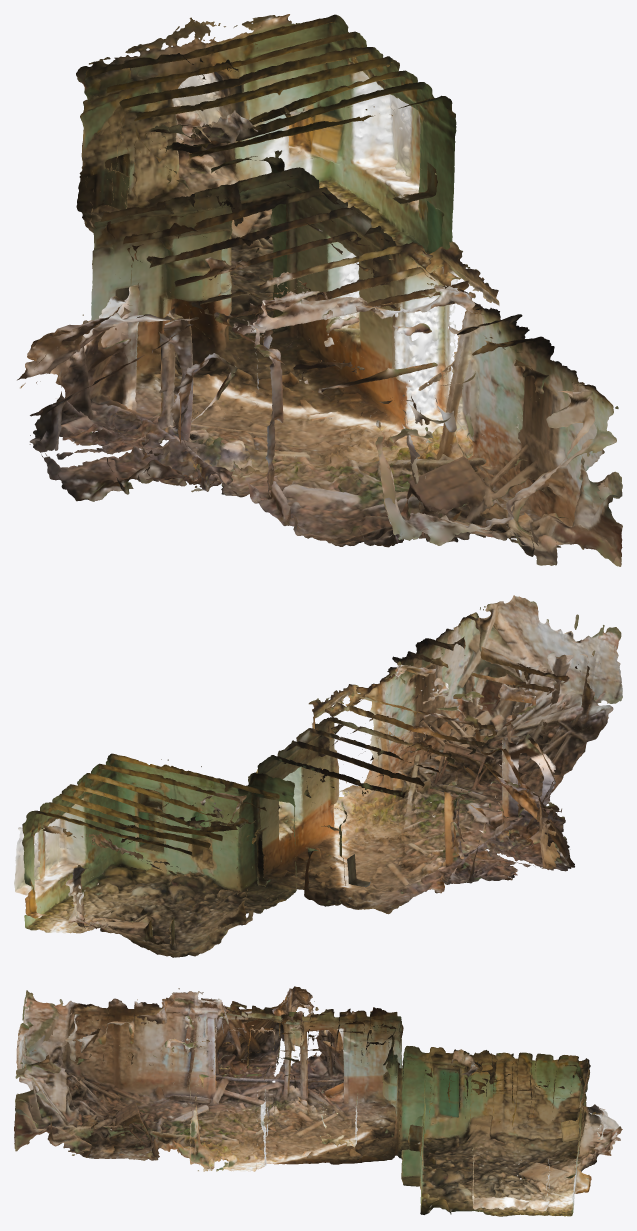
File: abandoned_house_interior-v1.glb
3 views of the same model, one above another, from view 1: azimuth 30°, elevation 25°; view 2: azimuth 150°, elevation 25°; view 3: azimuth 270°, elevation 25° (orthographic). The views are drawn at different scales.
Visible parts, largest first — view 1: Object_2, Object_5, Object_4, Object_3, Object_6, Object_7, Object_8; view 2: Object_2, Object_3, Object_4, Object_6, Object_5, Object_7, Object_8; view 3: Object_4, Object_3, Object_5, Object_6, Object_7, Object_2, Object_8.
Part boxes in pixels (bbox=[...]): Object_2: bbox=[134, 22, 621, 553]; Object_5: bbox=[21, 23, 618, 519]; Object_4: bbox=[44, 62, 536, 560]; Object_3: bbox=[82, 74, 454, 446]; Object_6: bbox=[151, 145, 573, 546]; Object_7: bbox=[17, 76, 622, 566]; Object_8: bbox=[76, 14, 390, 184]; Object_2: bbox=[15, 595, 580, 928]; Object_3: bbox=[28, 728, 433, 957]; Object_4: bbox=[14, 650, 622, 957]; Object_6: bbox=[45, 685, 563, 901]; Object_5: bbox=[38, 606, 620, 914]; Object_7: bbox=[317, 619, 622, 838]; Object_8: bbox=[20, 791, 279, 894]; Object_4: bbox=[19, 999, 622, 1216]; Object_3: bbox=[273, 1009, 586, 1216]; Object_5: bbox=[20, 988, 601, 1214]; Object_6: bbox=[67, 1003, 502, 1214]; Object_7: bbox=[14, 986, 606, 1158]; Object_2: bbox=[14, 1009, 591, 1216]; Object_8: bbox=[408, 1050, 608, 1127].
Size of the model in its own units: 29.15 by 9.97 by 45.07.
1 material, 1 textured.
